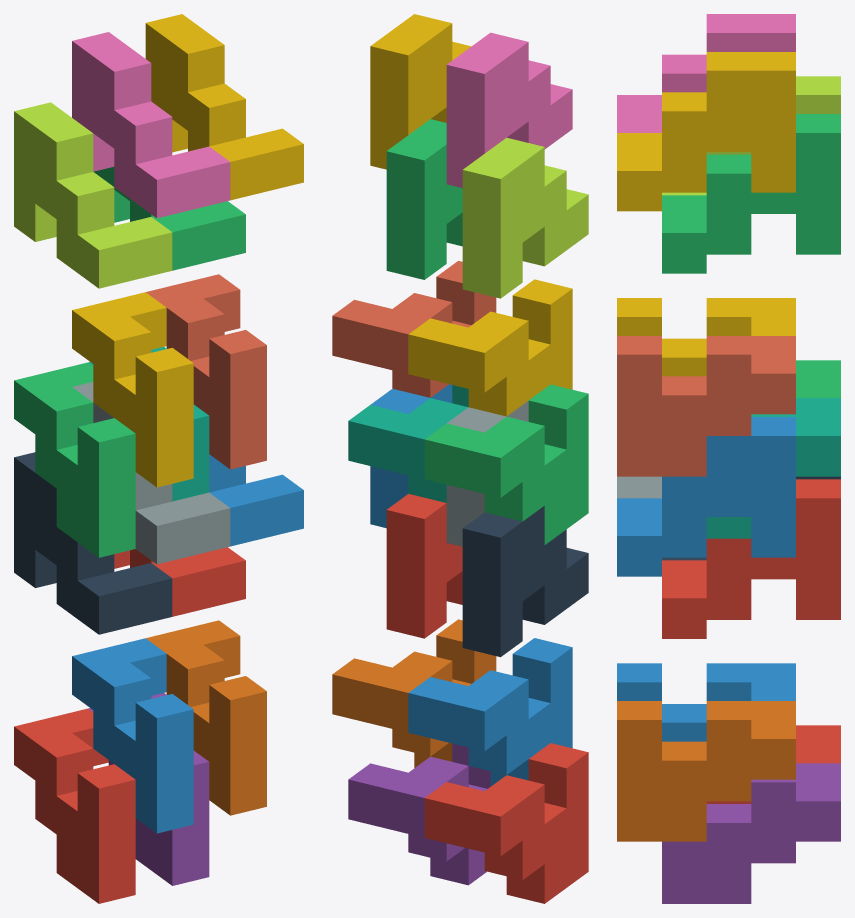
File: tiling.obj
3 views of the same model, side by side, from view 1: azimuth 30°, elevation 25°; view 2: azimuth 150°, elevation 25°; view 3: azimuth 270°, elevation 25° (orthographic). The views are drawn at different scales.
Parts seen in each view (by area): view 1: copy_2_domain_3, copy_2_domain_4, copy_1_domain_1, copy_1_domain_4, copy_1_domain_2, copy_1_domain_3, copy_2_domain_8, copy_1_domain_8, copy_1_domain_6, copy_2_domain_1, copy_2_domain_2, copy_2_domain_6 (+4 smaller); view 2: copy_1_domain_1, copy_1_domain_3, copy_1_domain_2, copy_2_domain_3, copy_1_domain_4, copy_2_domain_1, copy_2_domain_4, copy_2_domain_7, copy_2_domain_8, copy_1_domain_6, copy_2_domain_5, copy_1_domain_5 (+4 smaller); view 3: copy_1_domain_6, copy_1_domain_8, copy_2_domain_8, copy_2_domain_6, copy_2_domain_7, copy_1_domain_5, copy_2_domain_5, copy_1_domain_4, copy_2_domain_4, copy_1_domain_2, copy_1_domain_7, copy_2_domain_3 (+3 smaller).
Boxes of the visible parts, bbox=[...] form: copy_2_domain_3: bbox=[14, 102, 172, 288]; copy_2_domain_4: bbox=[72, 32, 230, 218]; copy_1_domain_1: bbox=[14, 708, 135, 903]; copy_1_domain_4: bbox=[72, 292, 193, 487]; copy_1_domain_2: bbox=[72, 638, 193, 833]; copy_1_domain_3: bbox=[14, 362, 135, 557]; copy_2_domain_8: bbox=[145, 14, 303, 200]; copy_1_domain_8: bbox=[146, 274, 266, 469]; copy_1_domain_6: bbox=[146, 620, 266, 815]; copy_2_domain_1: bbox=[14, 452, 172, 634]; copy_2_domain_2: bbox=[72, 382, 230, 564]; copy_2_domain_6: bbox=[209, 454, 303, 546]; copy_1_domain_1: bbox=[424, 743, 588, 903]; copy_1_domain_3: bbox=[424, 384, 588, 544]; copy_1_domain_2: bbox=[408, 638, 572, 786]; copy_2_domain_3: bbox=[462, 137, 588, 298]; copy_1_domain_4: bbox=[408, 279, 572, 416]; copy_2_domain_1: bbox=[462, 506, 588, 657]; copy_2_domain_4: bbox=[446, 32, 572, 187]; copy_2_domain_7: bbox=[386, 119, 462, 279]; copy_2_domain_8: bbox=[370, 14, 471, 169]; copy_1_domain_6: bbox=[332, 619, 496, 767]; copy_2_domain_5: bbox=[386, 494, 462, 638]; copy_1_domain_5: bbox=[348, 743, 490, 885]; copy_1_domain_6: bbox=[617, 701, 795, 841]; copy_1_domain_8: bbox=[617, 336, 795, 476]; copy_2_domain_8: bbox=[617, 52, 795, 211]; copy_2_domain_6: bbox=[617, 417, 795, 576]; copy_2_domain_7: bbox=[662, 114, 840, 273]; copy_1_domain_5: bbox=[662, 763, 840, 903]; copy_2_domain_5: bbox=[662, 479, 840, 638]; copy_1_domain_4: bbox=[617, 298, 795, 376]; copy_2_domain_4: bbox=[617, 14, 795, 132]; copy_1_domain_2: bbox=[617, 663, 795, 741]; copy_1_domain_7: bbox=[706, 398, 840, 538]; copy_2_domain_3: bbox=[662, 76, 840, 195].
Bounding box in the file's own units: 5 × 21 × 5.
